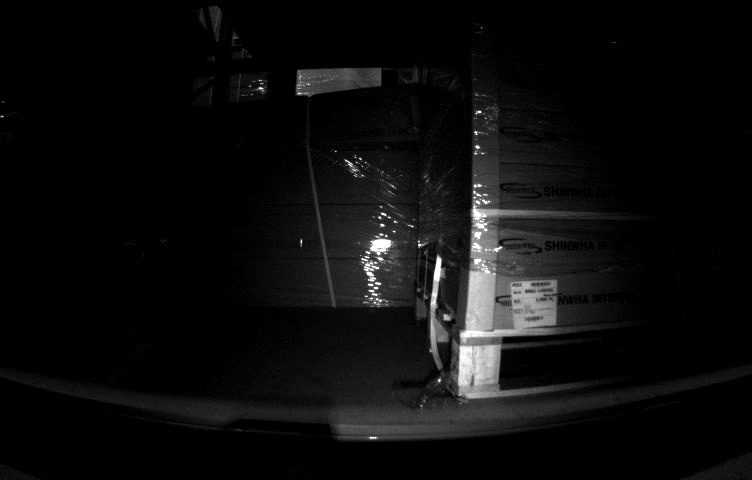True Barcode: (509, 281, 560, 328)
